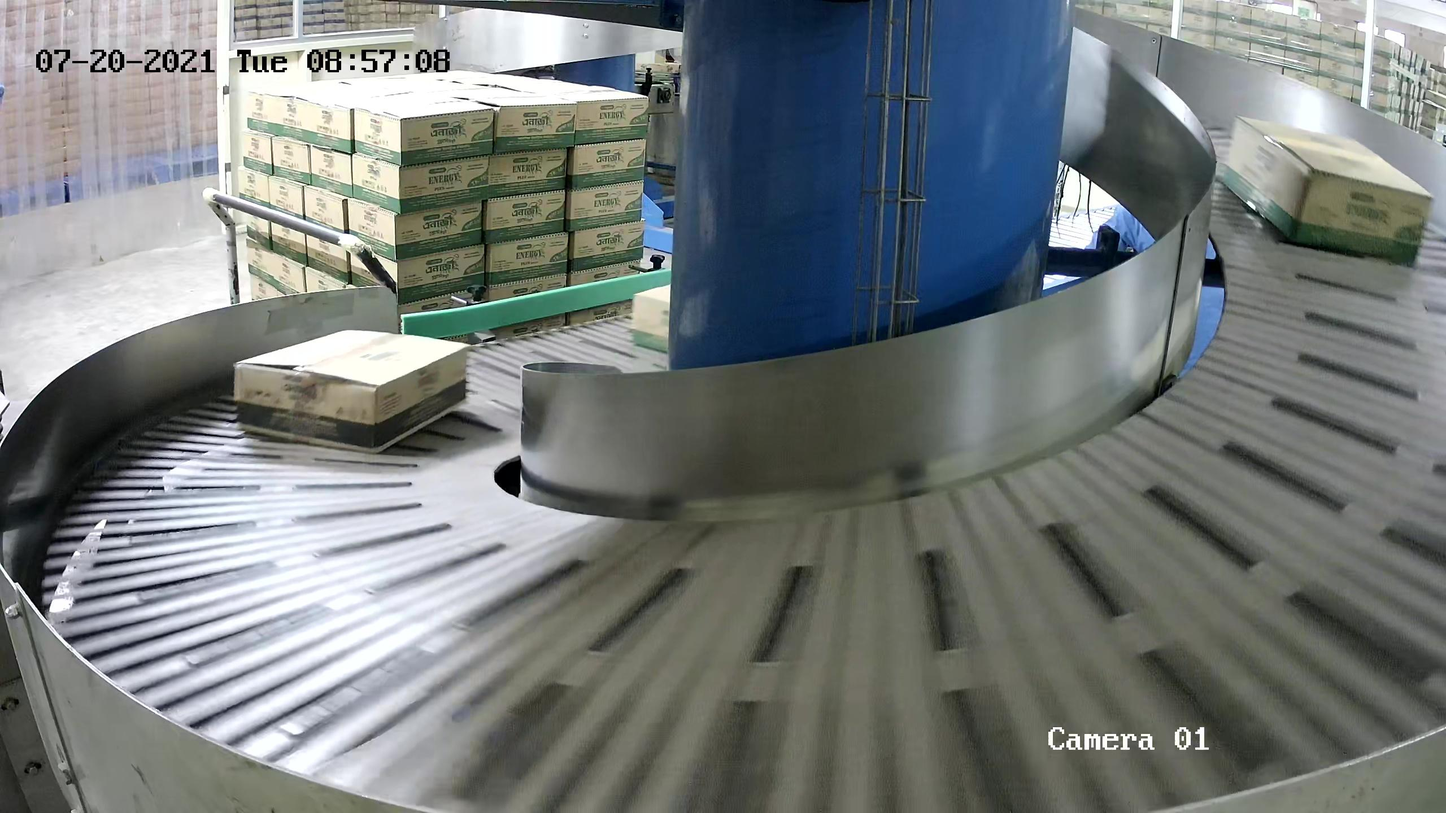Box: (1220, 114, 1435, 268), (233, 329, 471, 454), (630, 283, 671, 353)
